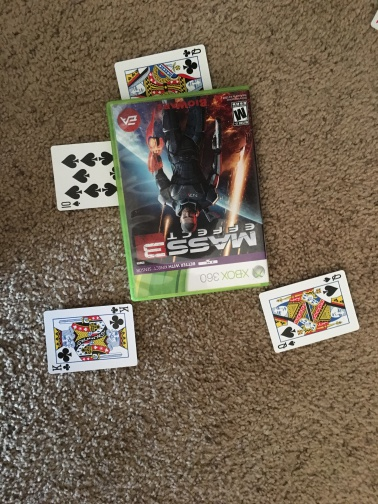king: (43, 302, 139, 374)
queen: (259, 272, 360, 355), (114, 42, 212, 101)
ten: (50, 139, 120, 211)
